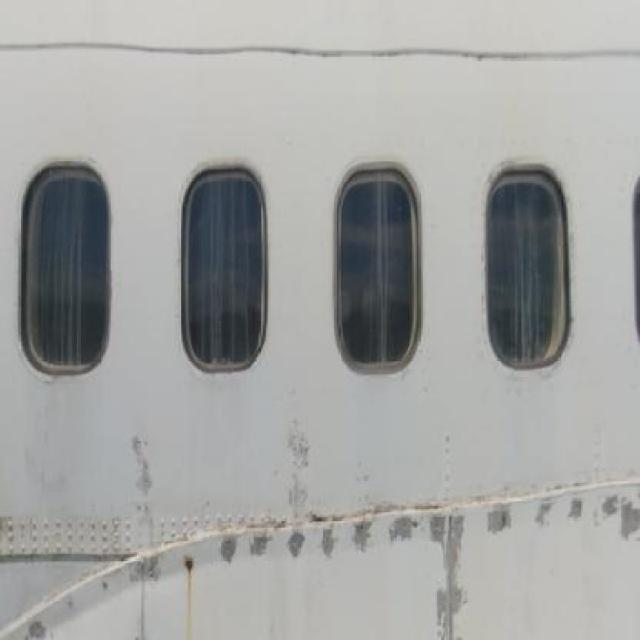Missing-Rivet: (216, 518, 419, 572)
Rust: (177, 544, 205, 639)
Scartch: (206, 500, 479, 640), (481, 474, 640, 574), (115, 421, 172, 550), (273, 405, 321, 538), (101, 544, 156, 640), (471, 184, 487, 376), (562, 173, 581, 330), (2, 593, 68, 635), (519, 365, 578, 398), (493, 149, 544, 176)
